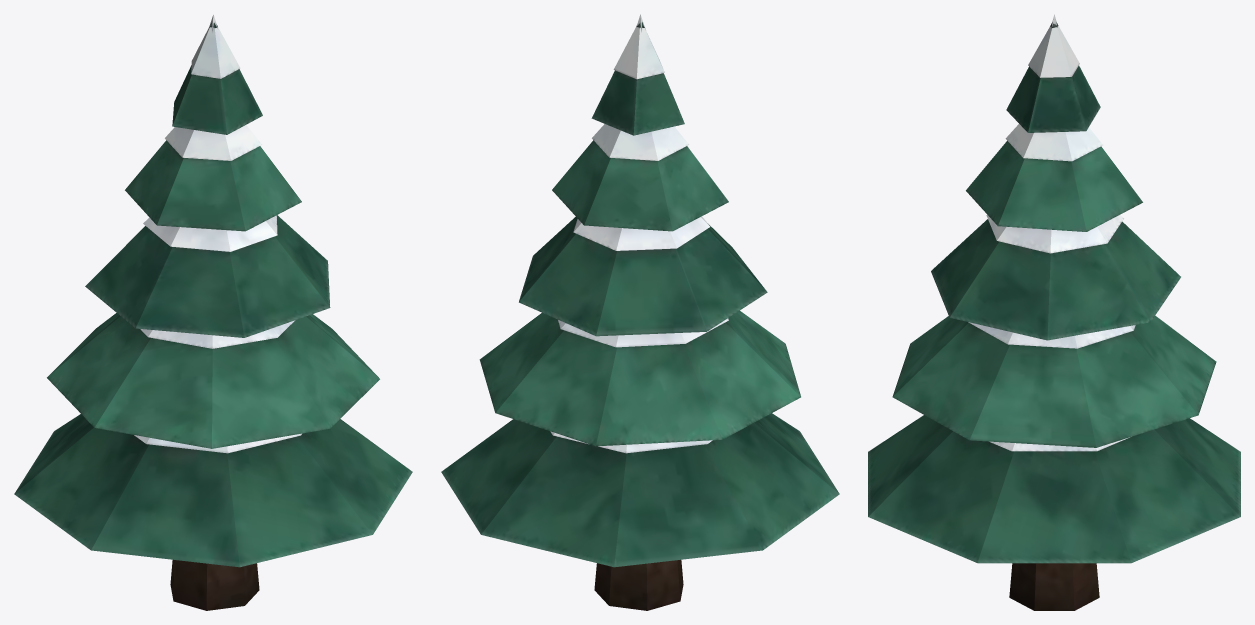
The model's file is tree_pine_snow.glb.
3 views of the same model, side by side, from view 1: azimuth 30°, elevation 25°; view 2: azimuth 150°, elevation 25°; view 3: azimuth 270°, elevation 25° (orthographic).
Parts seen in each view (by area): view 1: Static_Mesh; view 2: Static_Mesh; view 3: Static_Mesh.
Part boxes in pixels (x1=…): Static_Mesh: x1=14, y1=14, x2=412, y2=610; Static_Mesh: x1=441, y1=14, x2=839, y2=610; Static_Mesh: x1=868, y1=14, x2=1240, y2=610.
Bounding box in the file's own units: 4.34 × 7.45 × 4.34.
1 material, 1 textured.
